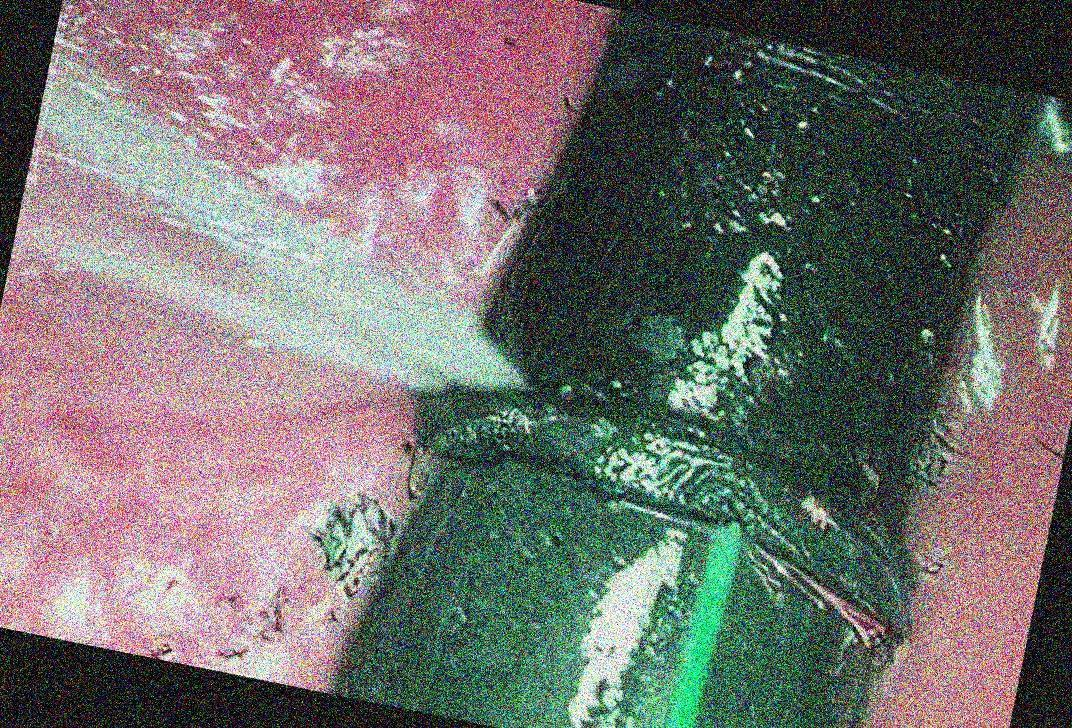pipe burst: (12, 74, 530, 424)
